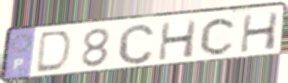8: (79, 27, 113, 69)
C: (116, 22, 157, 66), (198, 16, 239, 57)
D: (33, 29, 75, 75)
H: (238, 10, 281, 55), (156, 18, 199, 63)
